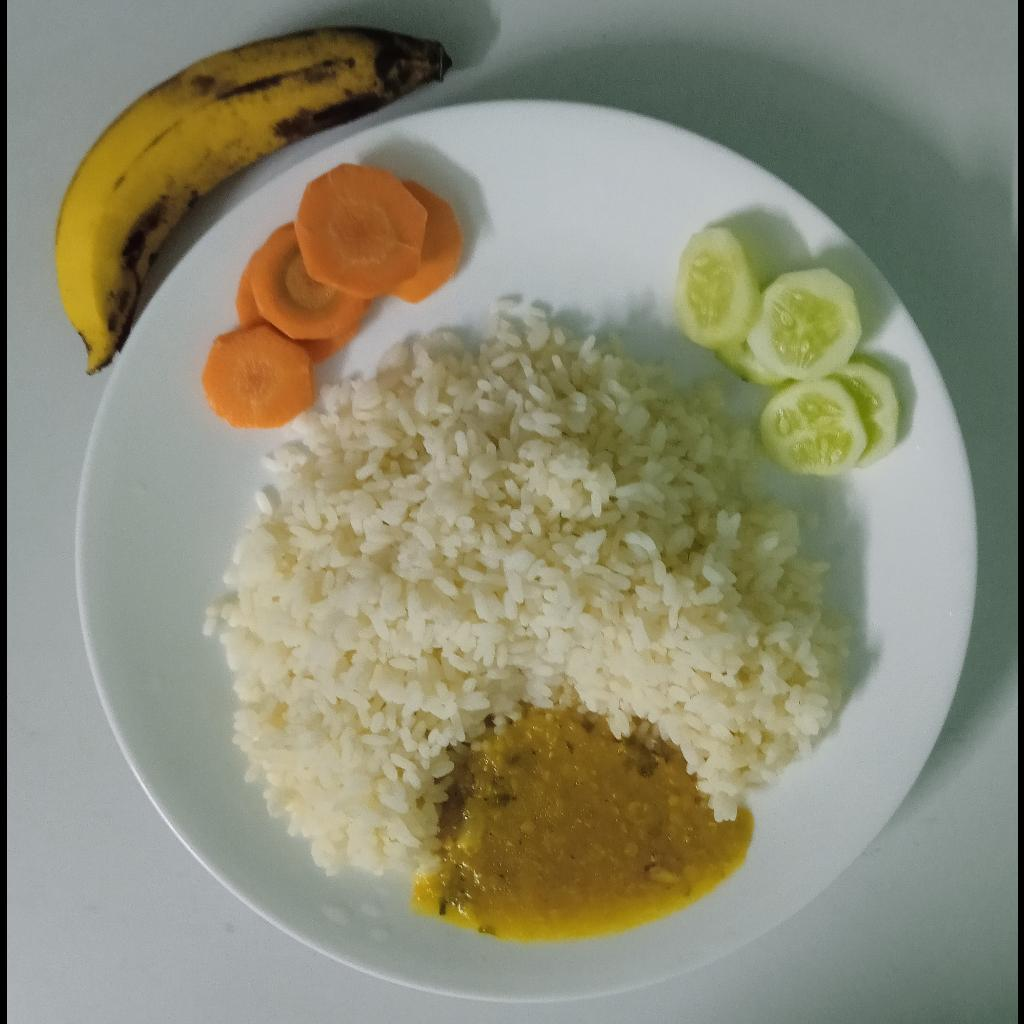banana: (53, 28, 456, 375)
carrot: (202, 164, 465, 430)
cucumber: (675, 226, 903, 477)
daal: (410, 712, 749, 942)
rice: (203, 300, 849, 882)
